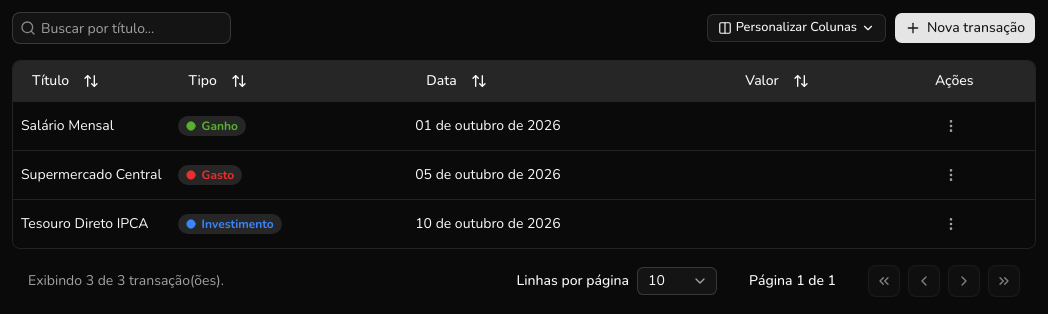
it: TransactionsTable Component › filters rows by text search input
Type "Salário" into the field with placeholder "Buscar por título..." at [122, 28], box [12, 12, 231, 44]
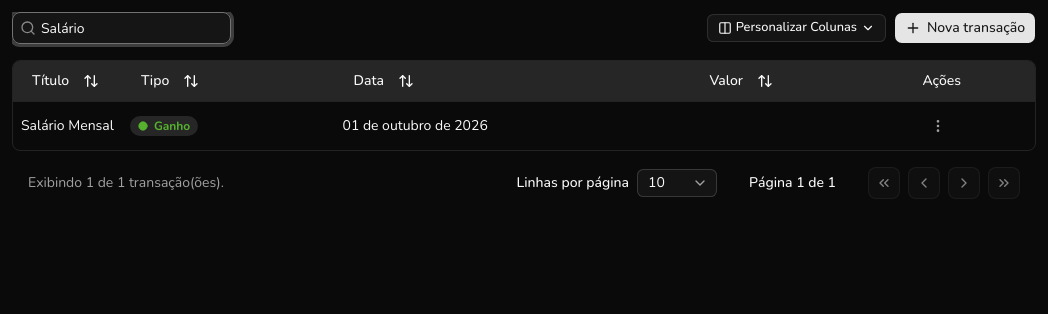
Check: the text "Salário Mensal" is shown, box [13, 101, 122, 150]
Check: the text "Supermercado Central" is gone
Check: the text "Tesouro Direto IPCA" is gone
